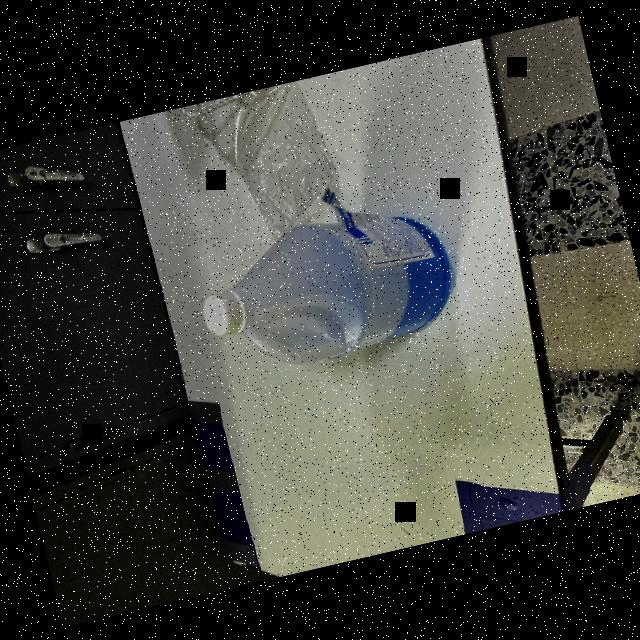chemical_plastic_gallon: (182, 175, 472, 394)
